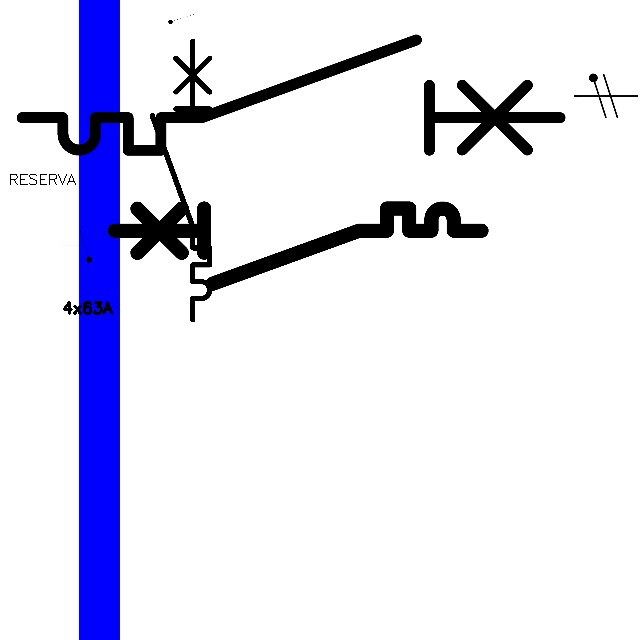interruptor_termomagnetico: (8, 26, 573, 164), (105, 199, 490, 293), (145, 34, 217, 327)
